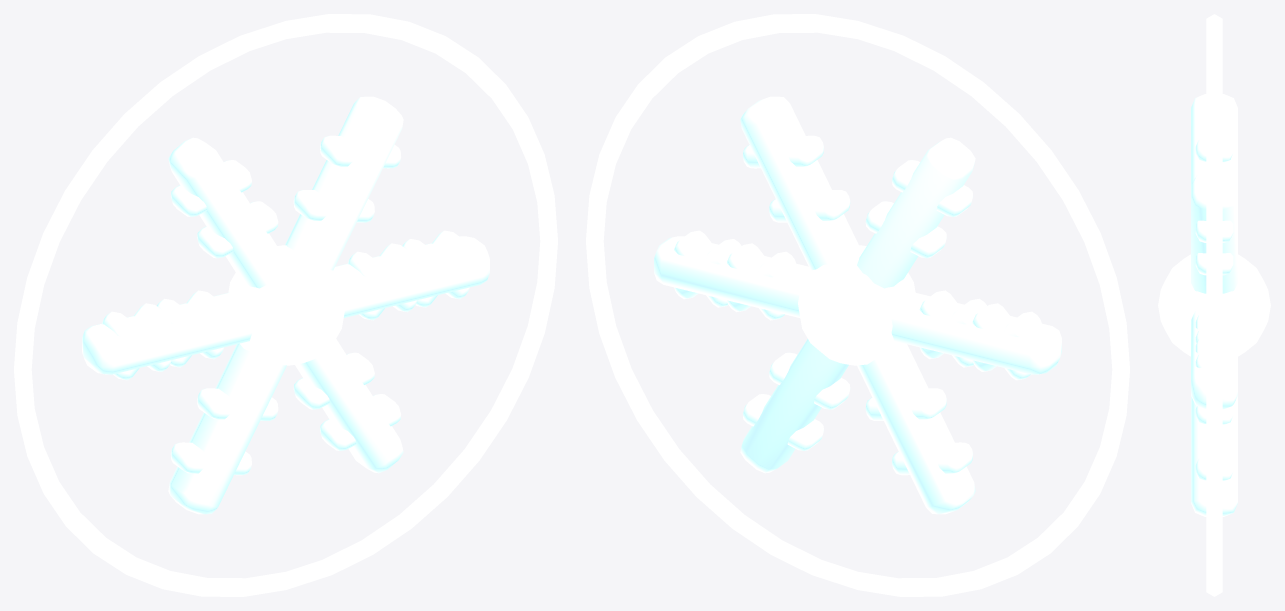
The model's file is sf_powerup_snowflake.glb.
The picture shows the model from 3 angles, left to right: view 1: azimuth 30°, elevation 25°; view 2: azimuth 150°, elevation 25°; view 3: azimuth 270°, elevation 25°; orthographic projection. The views are drawn at different scales.
Parts seen in each view (by area): view 1: sf_powerup_snowflake; view 2: sf_powerup_snowflake; view 3: sf_powerup_snowflake.
Boxes of the visible parts, bbox=[...] form: sf_powerup_snowflake: bbox=[14, 14, 557, 596]; sf_powerup_snowflake: bbox=[586, 14, 1129, 596]; sf_powerup_snowflake: bbox=[1158, 14, 1270, 596].
Bounding box in the file's own units: 1.24 × 1.24 × 0.24.
Materials: 2 (2 with a texture image).
